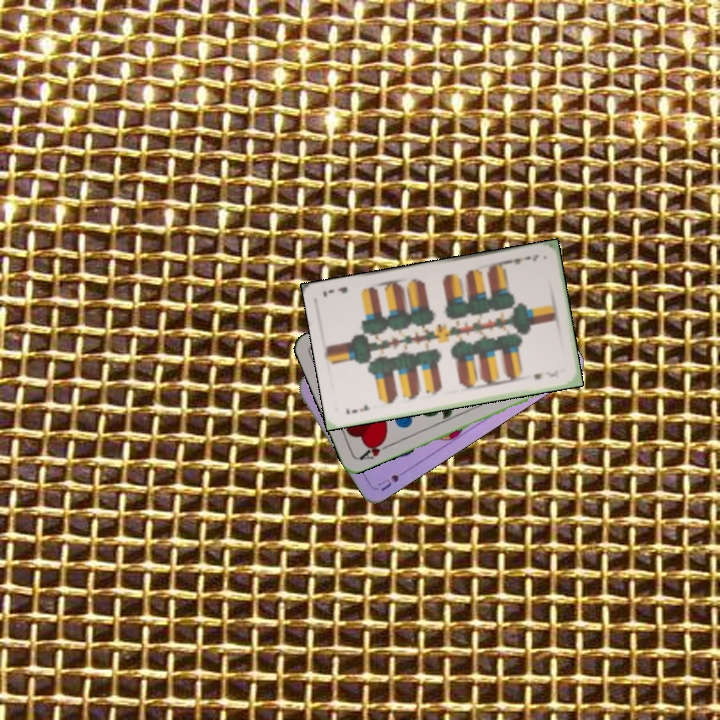E7: (503, 251, 541, 267), (342, 401, 372, 417)
HA: (355, 435, 394, 463)
SU: (373, 464, 412, 494)
